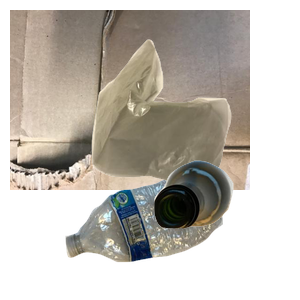cardboard: (10, 10, 250, 190)
glass: (151, 158, 300, 300)
plastic: (63, 170, 278, 300)
trash: (89, 37, 300, 213)
